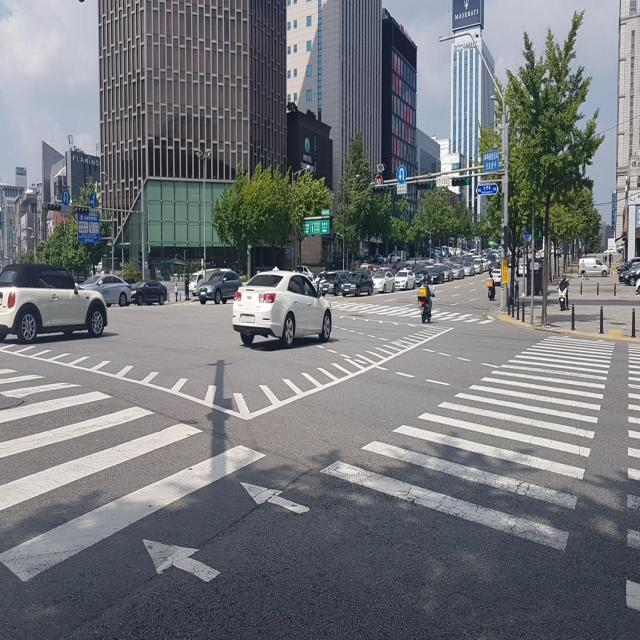횡단보도: (320, 334, 640, 616), (0, 364, 267, 582), (330, 298, 499, 327)
